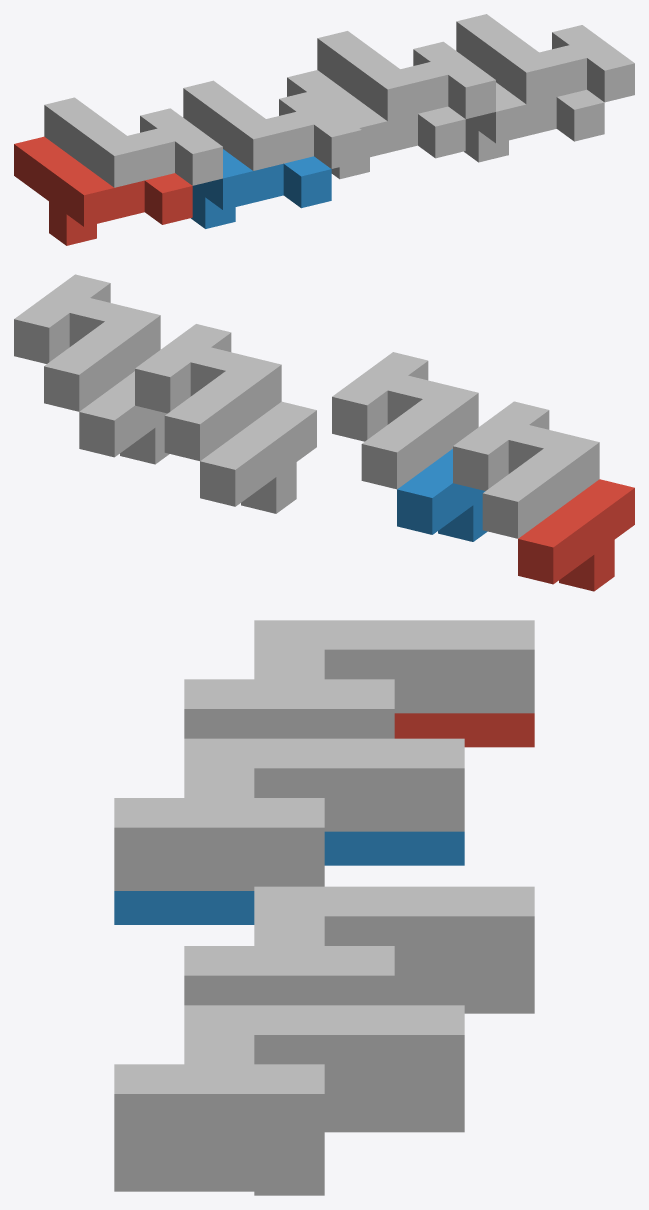
File: tiling.obj
3 renders of one model, top to bottom at view 1: azimuth 30°, elevation 25°; view 2: azimuth 150°, elevation 25°; view 3: azimuth 270°, elevation 25°, orthographic. The views are drawn at different scales.
Parts seen in each view (by area): view 1: copy_1_domain_7, copy_1_domain_3, copy_1_domain_8, copy_1_domain_4, copy_1_domain_1, copy_1_domain_5, copy_1_domain_6, copy_1_domain_2; view 2: copy_1_domain_3, copy_1_domain_7, copy_1_domain_4, copy_1_domain_8, copy_1_domain_1, copy_1_domain_5, copy_1_domain_2, copy_1_domain_6; view 3: copy_1_domain_8, copy_1_domain_4, copy_1_domain_7, copy_1_domain_3, copy_1_domain_6, copy_1_domain_2, copy_1_domain_1, copy_1_domain_5.
Boxes of the visible parts, x1,y1,x2,y2 form: copy_1_domain_7: (317, 31, 495, 121); copy_1_domain_3: (44, 97, 222, 187); copy_1_domain_8: (456, 14, 634, 104); copy_1_domain_4: (183, 80, 361, 170); copy_1_domain_1: (14, 136, 192, 245); copy_1_domain_5: (287, 70, 465, 179); copy_1_domain_6: (464, 82, 604, 162); copy_1_domain_2: (191, 149, 331, 228); copy_1_domain_3: (453, 401, 599, 538); copy_1_domain_7: (135, 324, 281, 460); copy_1_domain_4: (332, 352, 478, 489); copy_1_domain_8: (14, 274, 160, 411); copy_1_domain_1: (518, 479, 634, 591); copy_1_domain_5: (200, 401, 316, 513); copy_1_domain_2: (397, 449, 487, 541); copy_1_domain_6: (79, 371, 169, 464); copy_1_domain_8: (114, 1005, 464, 1157); copy_1_domain_4: (114, 738, 464, 890); copy_1_domain_7: (184, 886, 534, 1005); copy_1_domain_3: (184, 620, 534, 738); copy_1_domain_6: (114, 1098, 464, 1195); copy_1_domain_2: (114, 831, 464, 924); copy_1_domain_1: (394, 713, 534, 747); copy_1_domain_5: (394, 980, 534, 1013).
Bounding box in the file's own units: 17 × 3 × 6.
